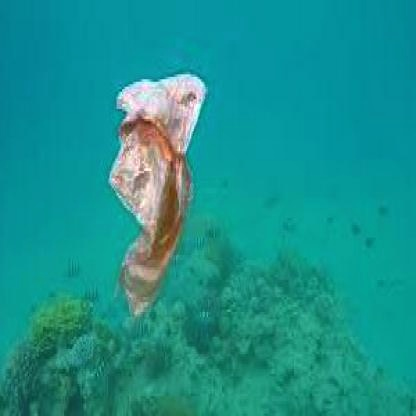pbag: (108, 72, 207, 322)
